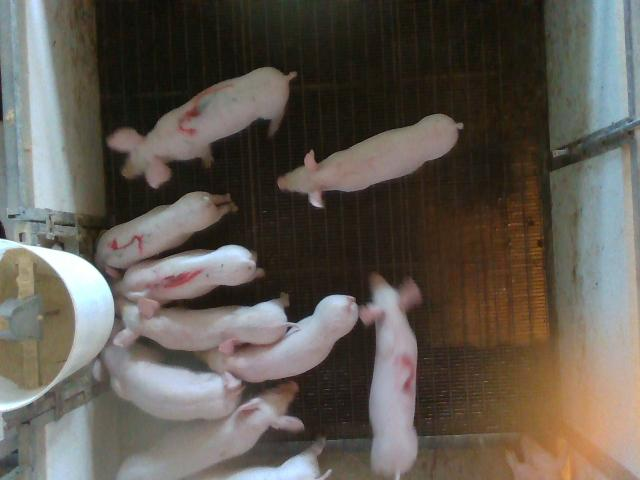pig-1: (114, 245, 264, 304)
pig-2: (359, 272, 421, 478)
pig-3: (106, 68, 296, 188)
pig-5: (95, 192, 236, 278)
